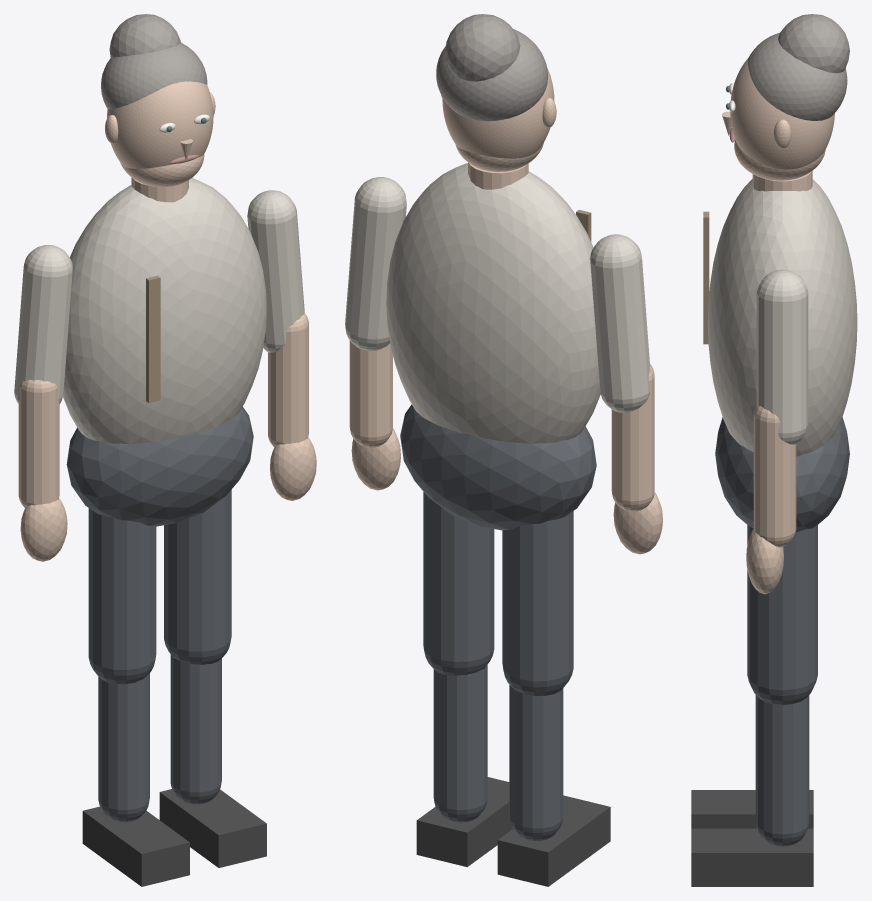
File: council-archivist-human-v1.glb
The picture shows the model from 3 angles, left to right: view 1: azimuth 30°, elevation 25°; view 2: azimuth 150°, elevation 25°; view 3: azimuth 270°, elevation 25°; orthographic projection. The views are drawn at different scales.
Parts seen in each view (by area): view 1: archivist-torso, archivist-pelvis, archivist-thigh-left, archivist-thigh-right, archivist-calf-right, archivist-calf-left, archivist-upper-arm-left, archivist-head, archivist-upper-arm-right, archivist-shoe-left, archivist-shoe-right, archivist-forearm-left (+8 smaller); view 2: archivist-torso, archivist-pelvis, archivist-thigh-left, archivist-thigh-right, archivist-upper-arm-left, archivist-calf-right, archivist-calf-left, archivist-upper-arm-right, archivist-shoe-left, archivist-hair-cap, archivist-shoe-right, archivist-forearm-left (+7 smaller); view 3: archivist-torso, archivist-thigh-right, archivist-upper-arm-right, archivist-calf-right, archivist-pelvis, archivist-shoe-right, archivist-head, archivist-hair-cap, archivist-forearm-right, archivist-hair-bun, archivist-shoe-left, archivist-hand-right (+4 smaller).
Boxes of the visible parts, box(x1,y1,x2,y2) form: archivist-torso: box(63, 178, 266, 444); archivist-pelvis: box(66, 406, 253, 526); archivist-thigh-left: box(88, 508, 156, 684); archivist-thigh-right: box(164, 490, 231, 664); archivist-calf-right: box(170, 654, 221, 804); archivist-calf-left: box(98, 673, 149, 821); archivist-upper-arm-left: box(14, 245, 72, 403); archivist-head: box(107, 81, 213, 168); archivist-upper-arm-right: box(247, 190, 304, 352); archivist-shoe-left: box(82, 806, 189, 886); archivist-shoe-right: box(159, 789, 266, 867); archivist-forearm-left: box(18, 379, 59, 507); archivist-torso: box(386, 163, 600, 443); archivist-pelvis: box(400, 404, 596, 530); archivist-thigh-left: box(502, 511, 573, 696); archivist-thigh-right: box(423, 492, 494, 675); archivist-upper-arm-left: box(590, 234, 650, 412); archivist-calf-right: box(433, 665, 487, 822); archivist-calf-left: box(509, 685, 563, 840); archivist-upper-arm-right: box(345, 177, 406, 350); archivist-shoe-left: box(497, 795, 610, 886); archivist-hair-cap: box(436, 29, 547, 121); archivist-shoe-right: box(416, 777, 512, 867); archivist-forearm-left: box(611, 364, 654, 511); archivist-torso: box(707, 179, 857, 456); archivist-thigh-right: box(747, 525, 817, 705); archivist-upper-arm-right: box(756, 269, 808, 444); archivist-calf-right: box(755, 695, 809, 846); archivist-pelvis: box(715, 417, 849, 531); archivist-shoe-right: box(691, 828, 813, 886); archivist-head: box(730, 58, 834, 169); archivist-hair-cap: box(747, 32, 847, 120); archivist-forearm-right: box(753, 404, 796, 547); archivist-hair-bun: box(778, 14, 849, 73); archivist-shoe-left: box(691, 790, 813, 828); archivist-hand-right: box(746, 529, 783, 594).
Size of the model in its own units: 0.6712 by 1.78 by 0.3192.
